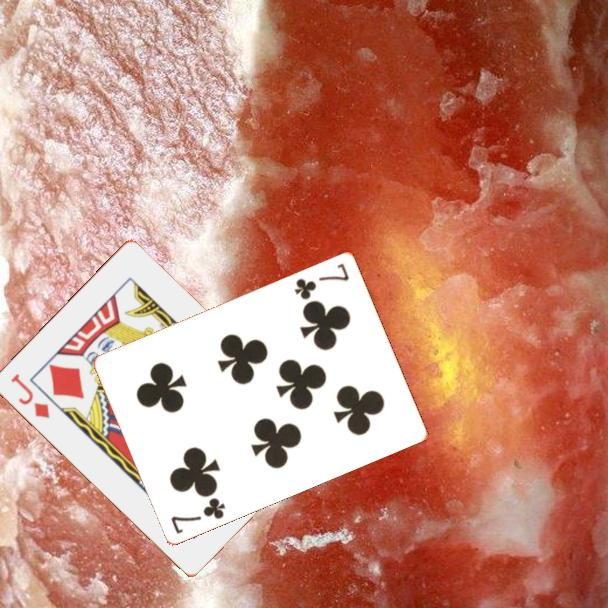c07: (291, 259, 352, 302), (168, 494, 229, 536)
d11: (7, 370, 52, 421)
